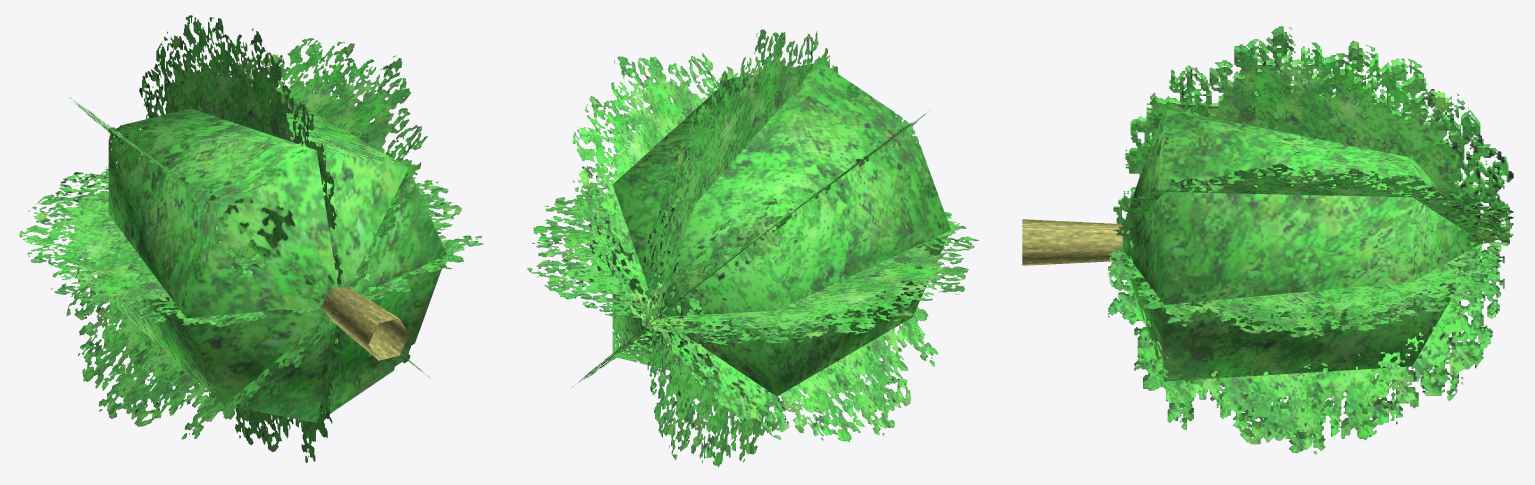
The model's file is polygon0.317.obj.
3 views of the same model, side by side, from view 1: azimuth 30°, elevation 25°; view 2: azimuth 150°, elevation 25°; view 3: azimuth 270°, elevation 25° (orthographic).
Visible parts, largest first — view 1: TreeB.149; view 2: TreeB.149; view 3: TreeB.149.
Boxes of the visible parts, x1,y1,x2,y2 form: TreeB.149: (19, 15, 483, 462); TreeB.149: (527, 29, 978, 467); TreeB.149: (1022, 26, 1513, 454).
Bounding box in the file's own units: 171 × 171 × 175.
Materials: 1 (1 with a texture image).
